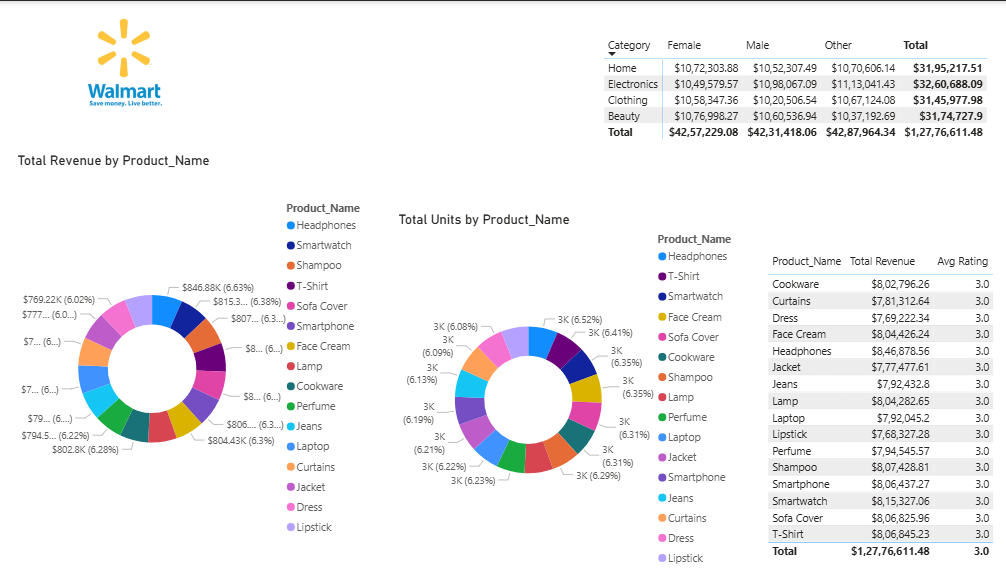

Layout of this report page (visuals, bound fields, positions):
{"tool":"powerbi","page":{"name":"Page 2","canvas":[1280,720],"ordinal":1},"visuals":[{"type":"donutChart","fields":{"Category":["dim_product.Product_Name"],"Y":["fact_sales.Total Revenue"]},"box":[20.7,189.9,457.6,524.9],"z":0},{"type":"donutChart","fields":{"Category":["dim_product.Product_Name"],"Y":["fact_sales.Total Units"]},"box":[500.7,264.2,445.5,455.8],"z":1000},{"type":"tableEx","fields":{"Values":["dim_product.Product_Name","fact_sales.Total Revenue","fact_sales.Avg Rating"]},"box":[965.7,311.4,296.5,404.2],"z":2000},{"type":"pivotTable","fields":{"Rows":["fact_sales.Category"],"Columns":["dim_customer.Gender","dim_customer.Age_Group"],"Values":["fact_sales.Total Revenue"]},"box":[759.7,39.7,502.4,167.5],"z":3000},{"type":"image","box":[0,0,313.1,164],"z":9000}]}

Visuals, with their boxes in screenshot pixels (x1, y1, x2, y2), scaled from the page's 1280x720 canvas onto the 1006x570 screenshot:
donutChart - dim_product.Product_Name x fact_sales.Total Revenue: pyautogui.locateOnScreen(16, 150, 376, 566)
donutChart - dim_product.Product_Name x fact_sales.Total Units: pyautogui.locateOnScreen(394, 209, 744, 569)
tableEx - dim_product.Product_Name x fact_sales.Total Revenue: pyautogui.locateOnScreen(759, 247, 992, 567)
pivotTable - fact_sales.Category x dim_customer.Gender: pyautogui.locateOnScreen(597, 31, 992, 164)
image: pyautogui.locateOnScreen(0, 0, 246, 130)
